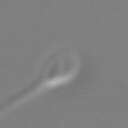normal: (1, 78, 44, 116)
